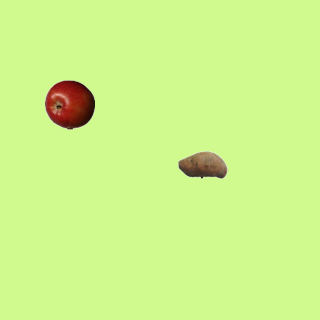Apple Braeburn: (44, 79, 94, 129)
Potato Sweet: (177, 139, 227, 189)
